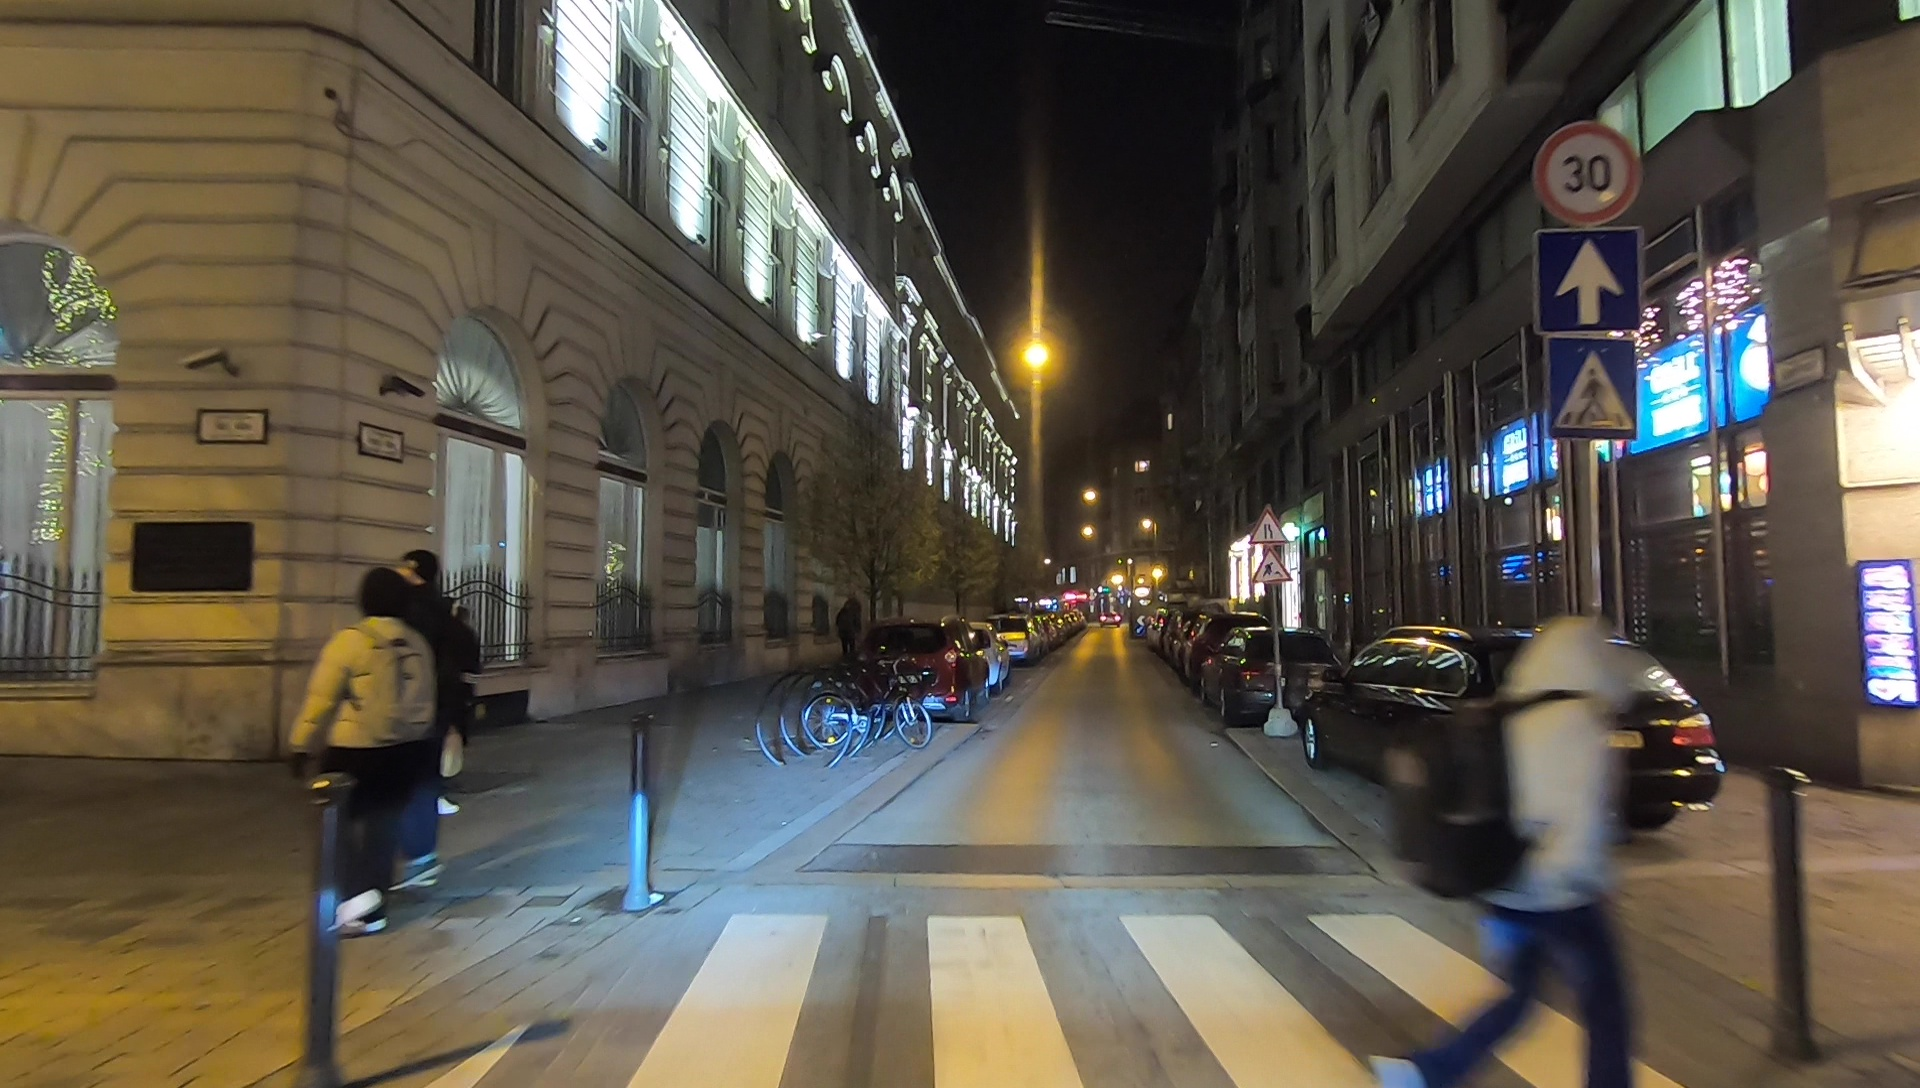person: (1373, 613, 1634, 1088), (293, 561, 415, 934), (378, 550, 467, 893), (838, 589, 862, 665)
